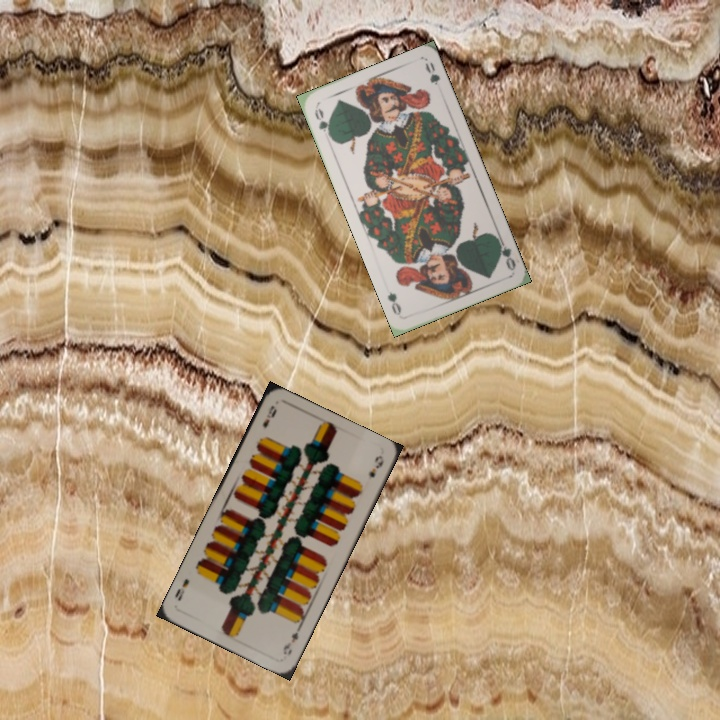E9: (279, 622, 304, 657), (258, 401, 280, 430)
GO: (492, 233, 518, 272), (310, 104, 335, 141)
